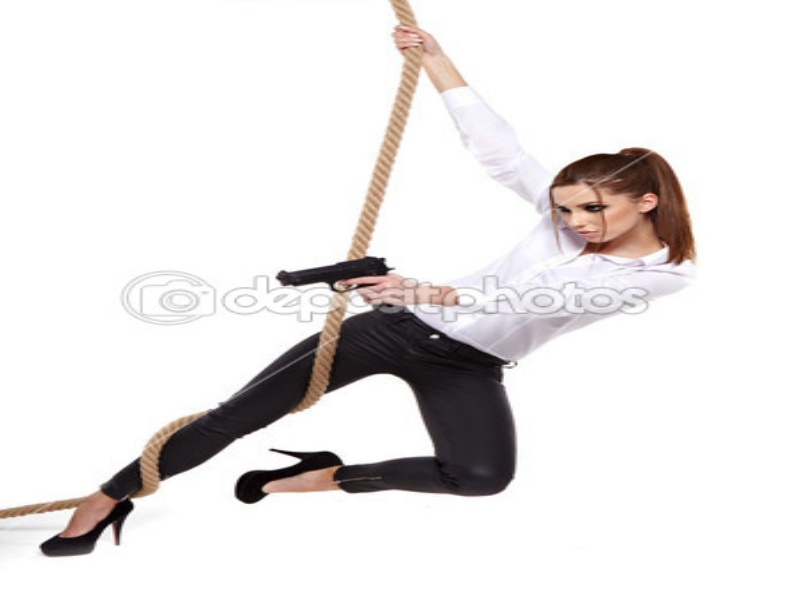gun: (277, 251, 404, 317)
